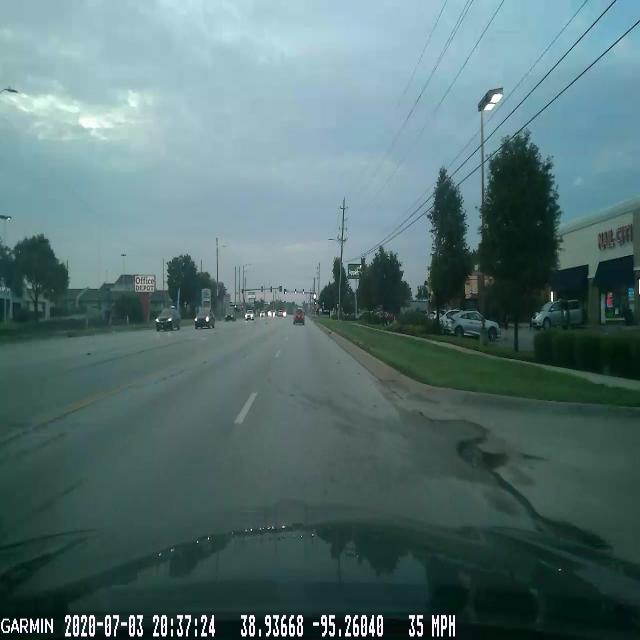Pothole: (522, 507, 619, 551), (444, 437, 510, 480)
